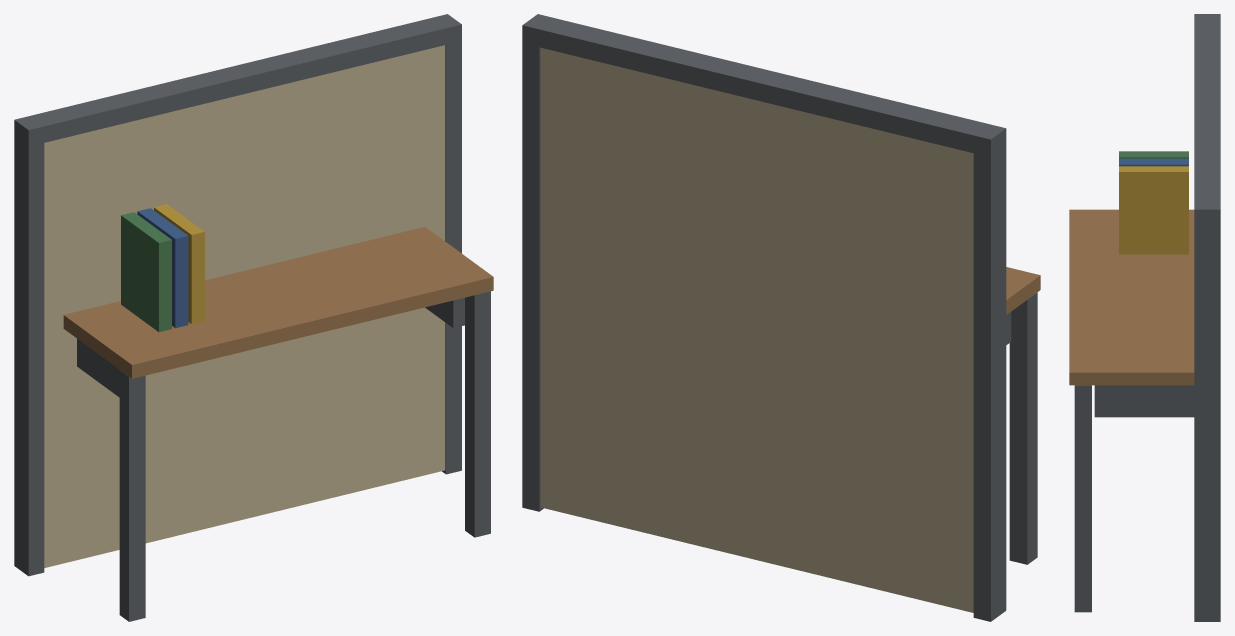
The model's file is office-partition-14.glb.
3 renders of one model, left to right at view 1: azimuth 30°, elevation 25°; view 2: azimuth 150°, elevation 25°; view 3: azimuth 270°, elevation 25°, orthographic. The views are drawn at different scales.
Parts seen in each view (by area): view 1: office_partition_14; view 2: office_partition_14; view 3: office_partition_14.
Boxes of the visible parts, x1,y1,x2,y2 form: office_partition_14: (14, 14, 493, 621); office_partition_14: (522, 14, 1040, 621); office_partition_14: (1069, 14, 1220, 621).
Bounding box in the file's own units: 1.32 × 1.32 × 0.4325.
